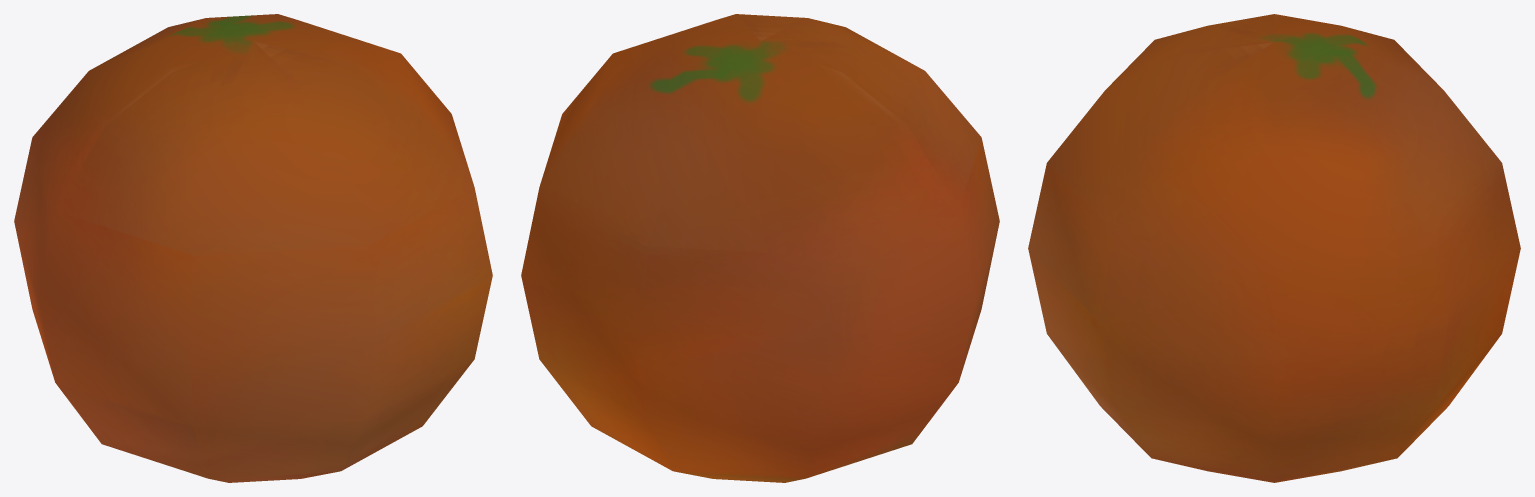
Rendered from orange.glb.
3 renders of one model, left to right at view 1: azimuth 30°, elevation 25°; view 2: azimuth 150°, elevation 25°; view 3: azimuth 270°, elevation 25°, orthographic.
Parts seen in each view (by area): view 1: Sphere_2; view 2: Sphere_2; view 3: Sphere_2.
Boxes of the visible parts, bbox=[...] form: Sphere_2: bbox=[14, 14, 492, 482]; Sphere_2: bbox=[521, 14, 999, 482]; Sphere_2: bbox=[1028, 14, 1520, 482].
Bounding box in the file's own units: 2 × 1.84 × 2.
1 material, 1 textured.
